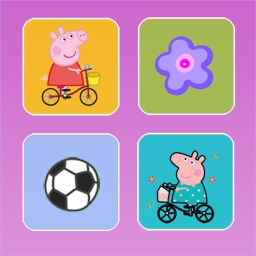Peppa: (42, 26, 90, 100)
